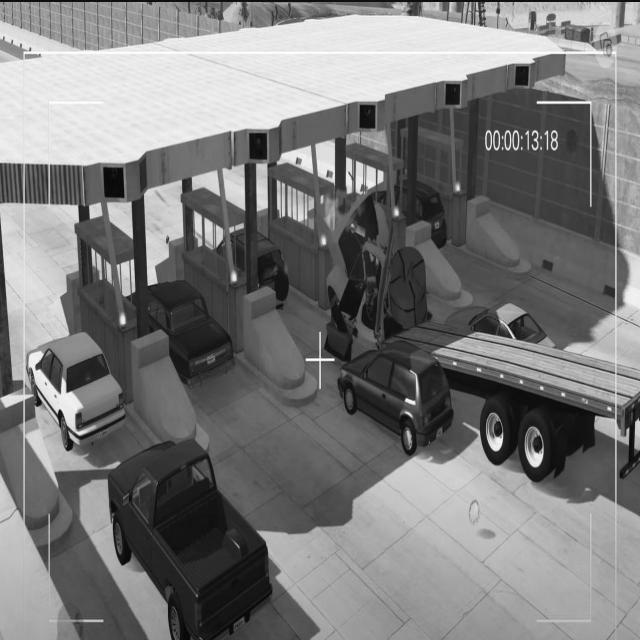accident: (316, 190, 431, 364)
vehicle: (106, 426, 276, 640), (128, 268, 242, 395), (23, 326, 127, 458), (339, 339, 453, 459), (214, 220, 291, 320), (443, 296, 560, 352), (401, 173, 447, 249)
